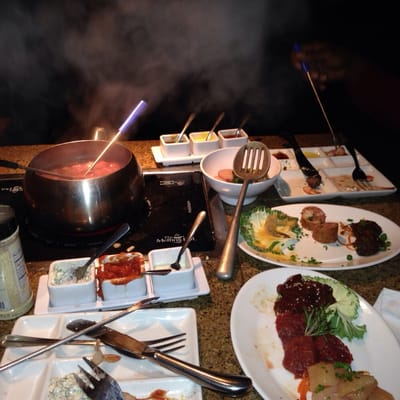salad: (87, 99, 148, 174), (177, 113, 197, 143)
sandwich: (95, 327, 255, 397), (280, 131, 323, 192)
sushi: (17, 139, 147, 252), (200, 143, 282, 197)
